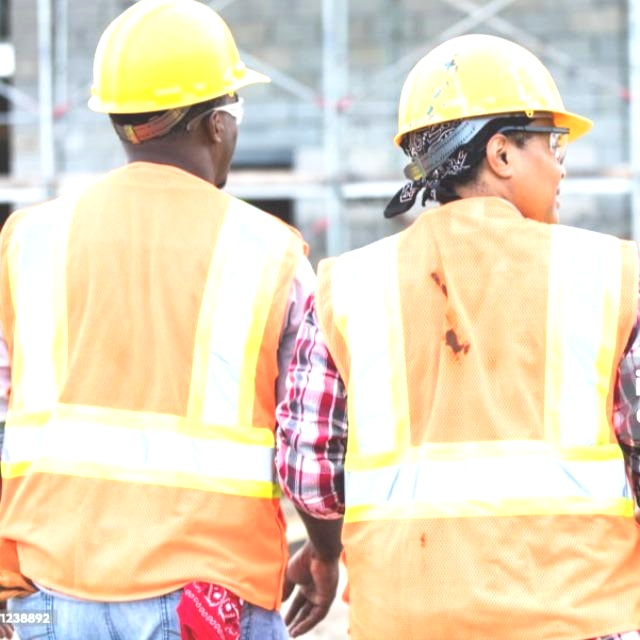Con_Casco: (90, 1, 271, 170)
Con_Chaleco: (331, 200, 640, 624), (0, 167, 292, 594)
